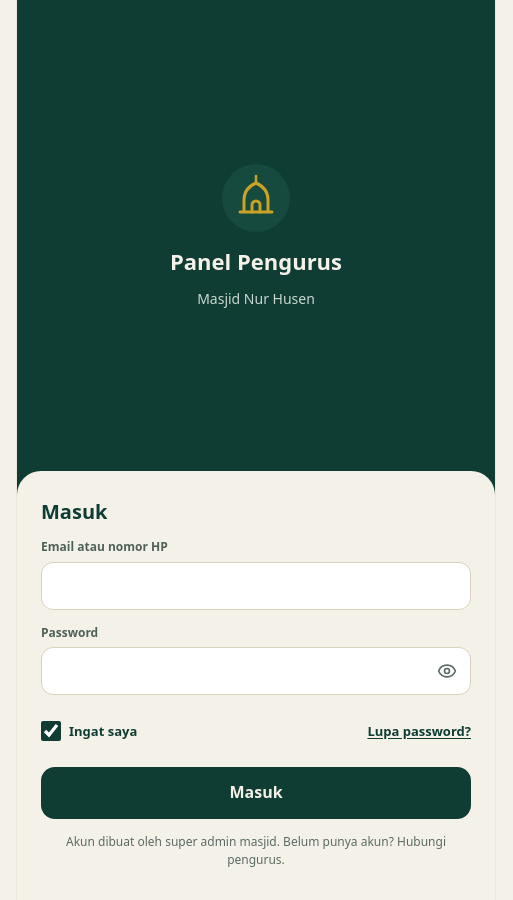
Test case: LoginPage › shows the API message for wrong credentials
Type "ketua@masjid.id" into the field labelled "Email atau nomor HP". click: x=256, y=586
box: [41,562,471,610]
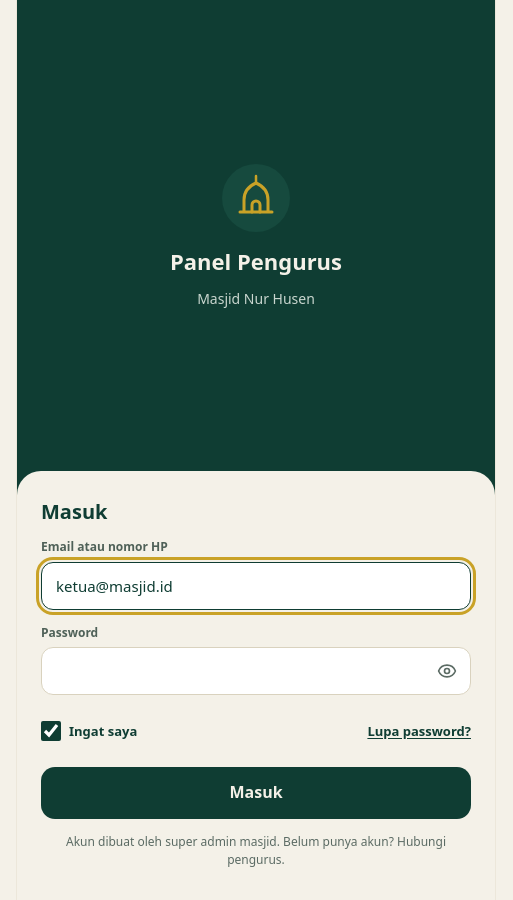
Type "salah-password" into the password field labelled "Password". click: x=256, y=671
box: [41,647,471,695]
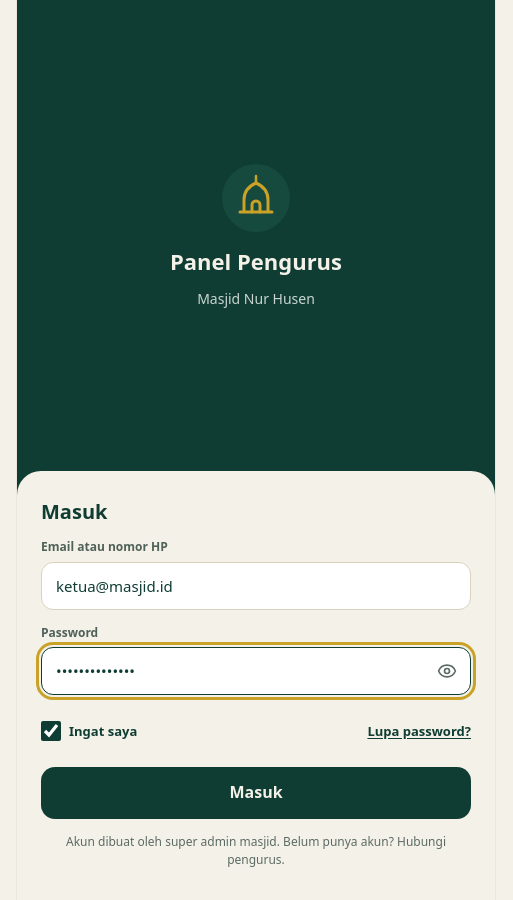
Click the button "Masuk". click: x=256, y=793
box: [41,767,471,819]
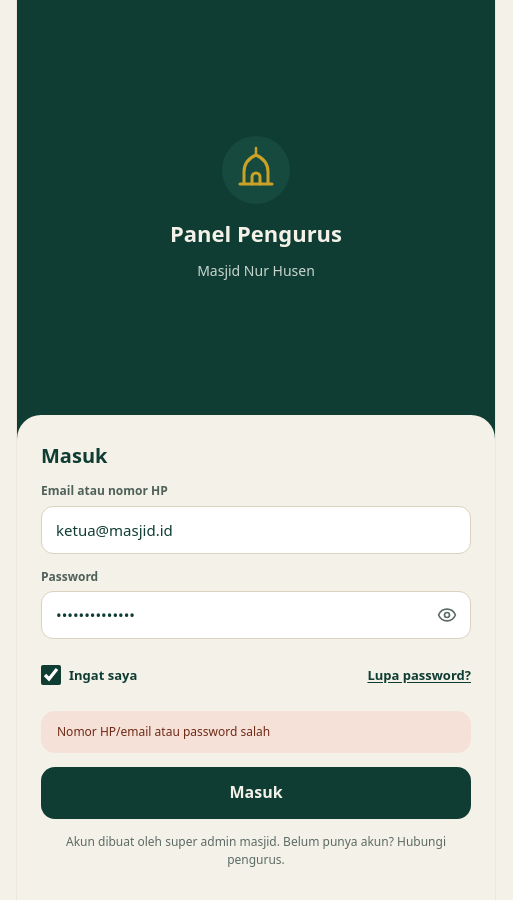
Result: the message reads "Nomor HP/email atau password salah" at [57,723,270,740]
